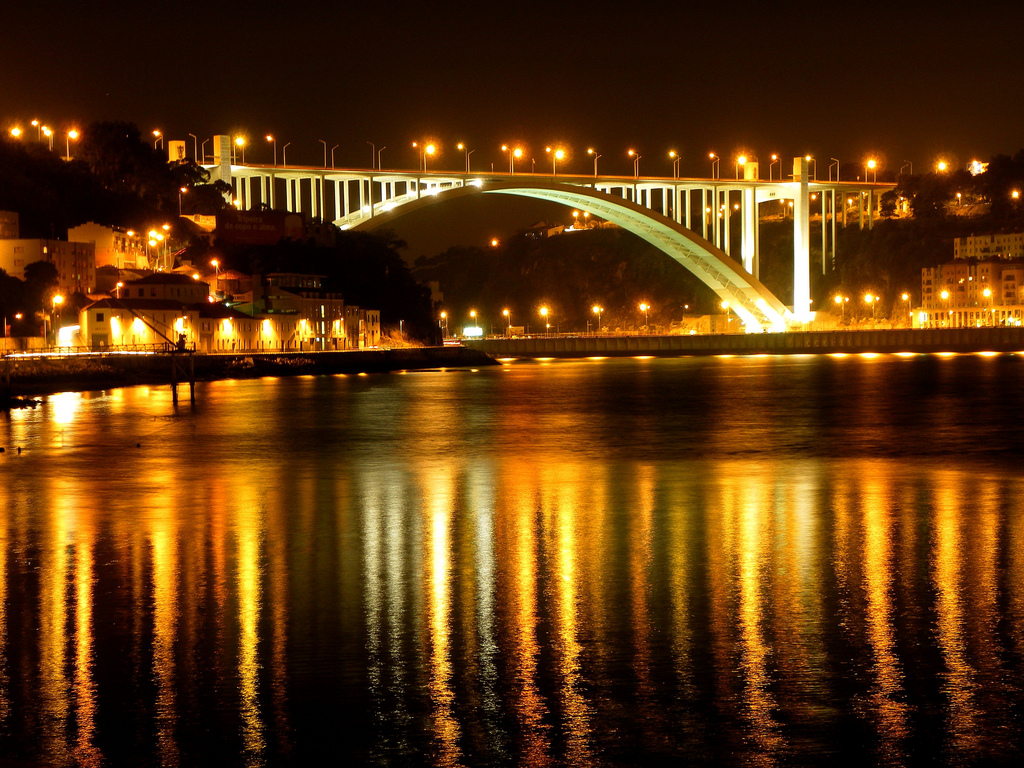arrabida: (166, 134, 901, 335)
